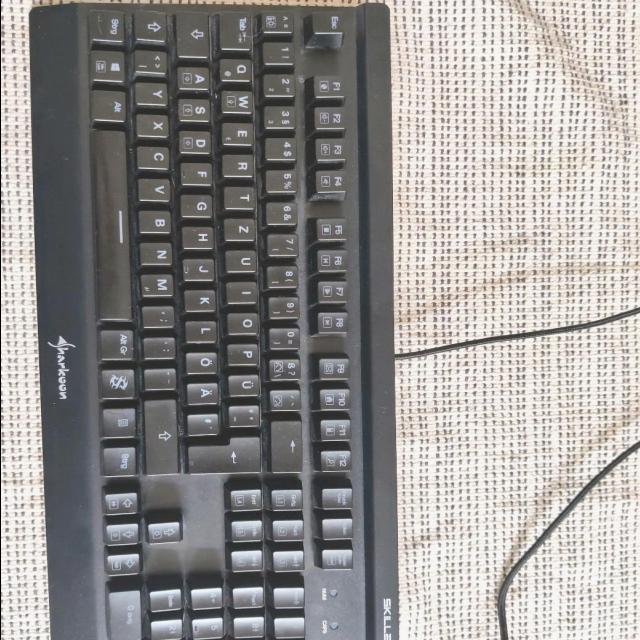0: (271, 324, 305, 348)
1: (264, 40, 299, 64)
2: (264, 72, 298, 96)
3: (265, 103, 301, 129)
4: (266, 136, 300, 160)
5: (267, 167, 301, 192)
6: (267, 199, 302, 225)
7: (268, 232, 302, 256)
8: (267, 262, 302, 287)
9: (270, 294, 304, 318)
a: (179, 64, 214, 89)
accent: (270, 387, 305, 410)
ae: (189, 380, 224, 403)
alt-left: (93, 87, 131, 121)
altgr-right: (102, 327, 138, 359)
b: (141, 208, 176, 233)
c: (140, 144, 174, 168)
caret: (262, 9, 298, 33)
comma: (145, 303, 179, 327)
d: (181, 128, 216, 153)
del: (273, 417, 307, 471)
e: (223, 120, 258, 145)
enter: (188, 434, 266, 473)
f: (183, 160, 217, 184)
g: (182, 193, 217, 217)
h: (184, 224, 218, 248)
hash: (189, 411, 223, 434)
i: (228, 279, 262, 303)
j: (184, 256, 219, 280)
k: (186, 287, 221, 311)
keyboard: (68, 0, 406, 640)
l: (188, 318, 222, 342)
less: (136, 48, 171, 73)
m: (142, 271, 178, 295)
minus: (147, 366, 181, 389)
n: (142, 240, 177, 265)
o: (229, 310, 263, 334)
oe: (188, 350, 222, 373)
p: (229, 341, 263, 365)
plus: (230, 402, 264, 426)
point: (146, 335, 180, 358)
q: (221, 56, 257, 80)
r: (224, 152, 259, 176)
s: (179, 96, 214, 121)
shift-left: (136, 8, 170, 41)
shift-lock: (177, 9, 213, 58)
shift-right: (147, 396, 183, 473)
space: (95, 126, 135, 320)
ss: (270, 355, 305, 379)
strg-left: (93, 7, 129, 41)
strg-right: (105, 443, 141, 475)
t: (226, 184, 261, 208)
tab: (221, 9, 256, 49)
u: (226, 248, 261, 272)
ue: (230, 372, 264, 396)
v: (140, 175, 176, 201)
w: (222, 88, 258, 113)
x: (137, 112, 173, 136)
y: (137, 81, 171, 105)
z: (226, 216, 260, 240)
